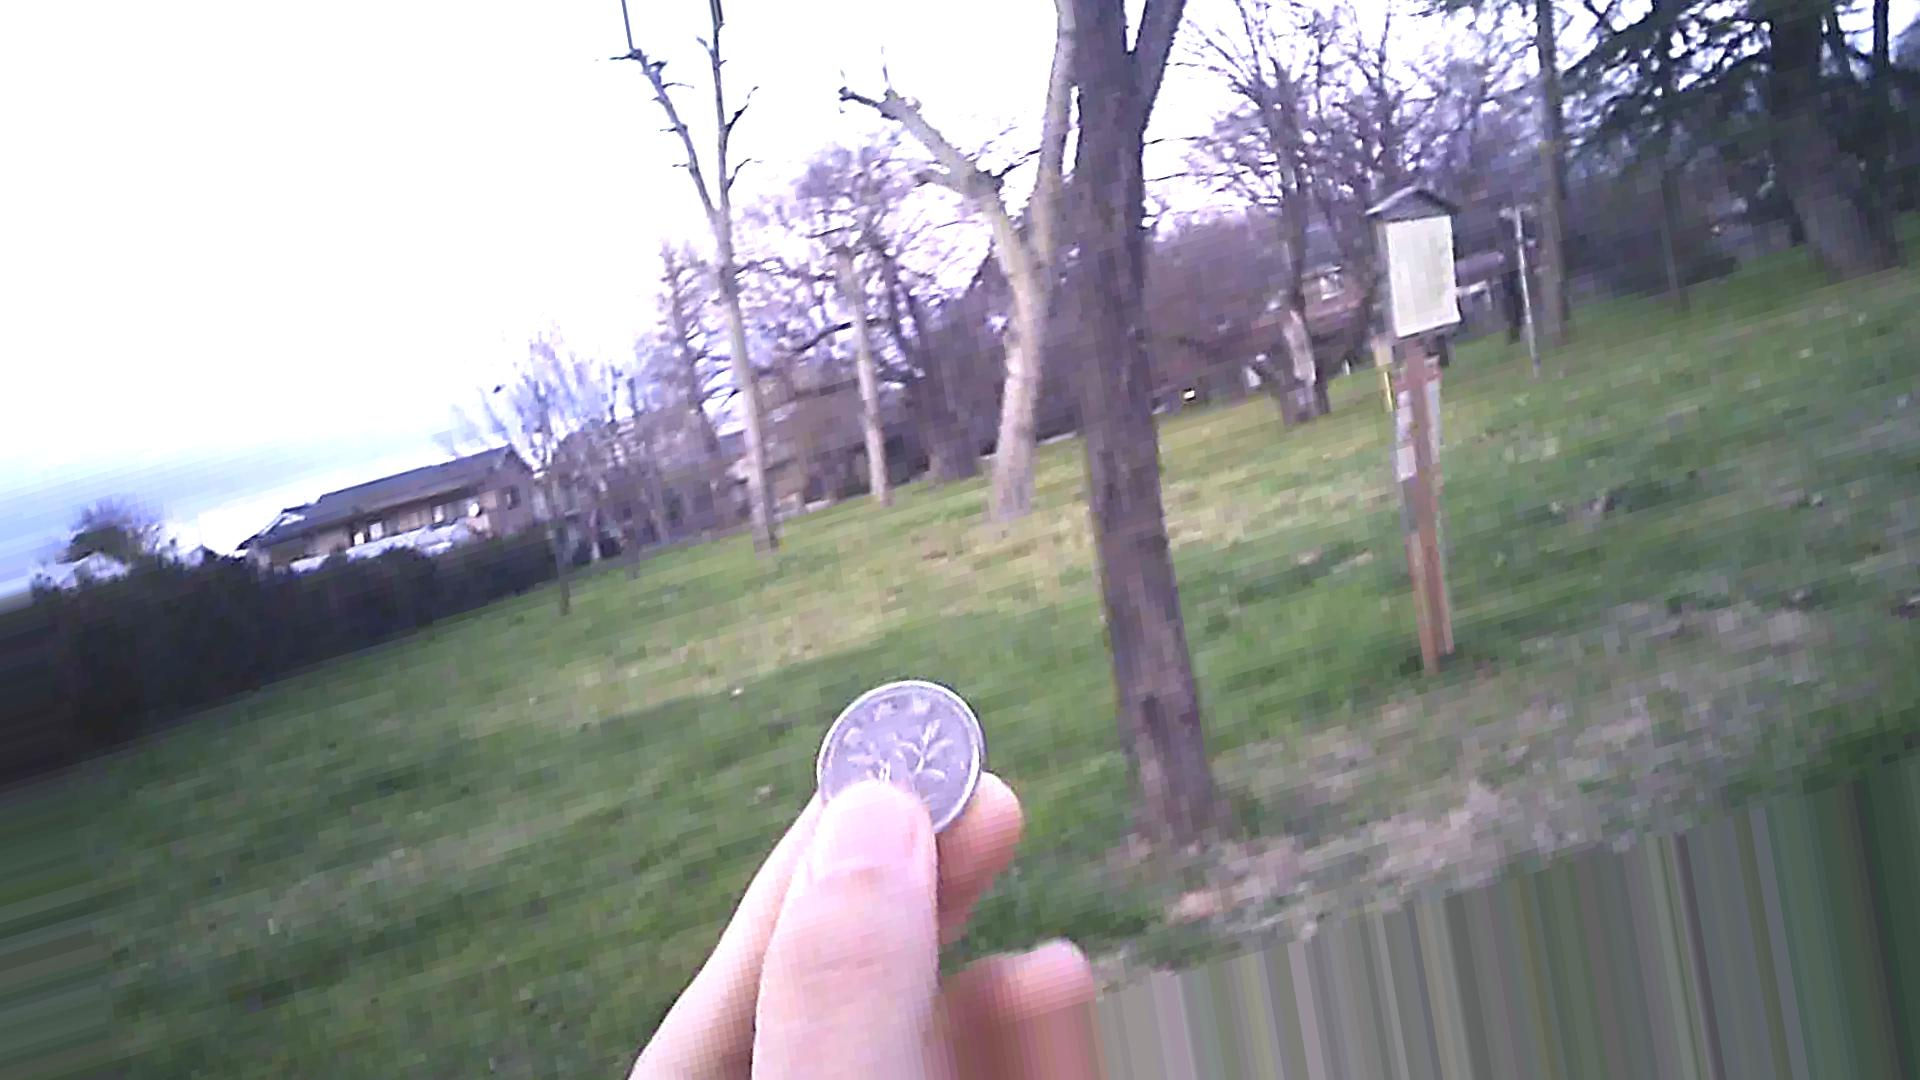1 Yen: (800, 669, 986, 843)
